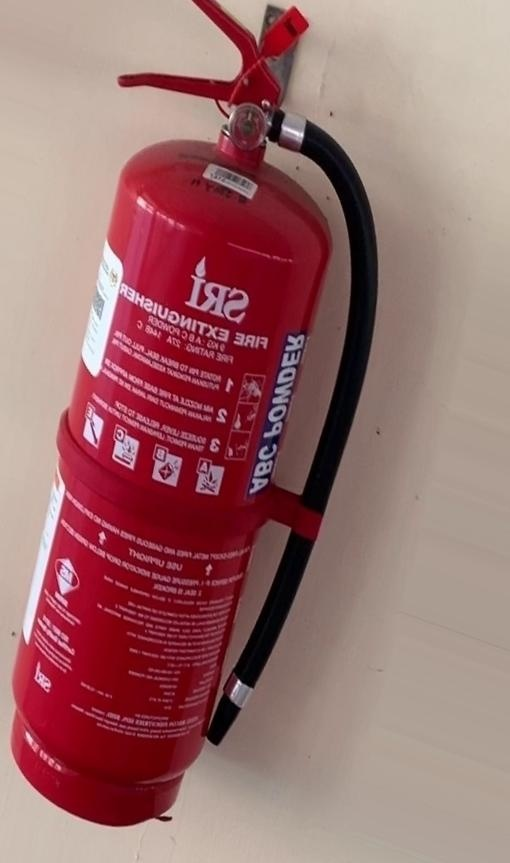fire_extinguisher: (9, 1, 380, 827)
